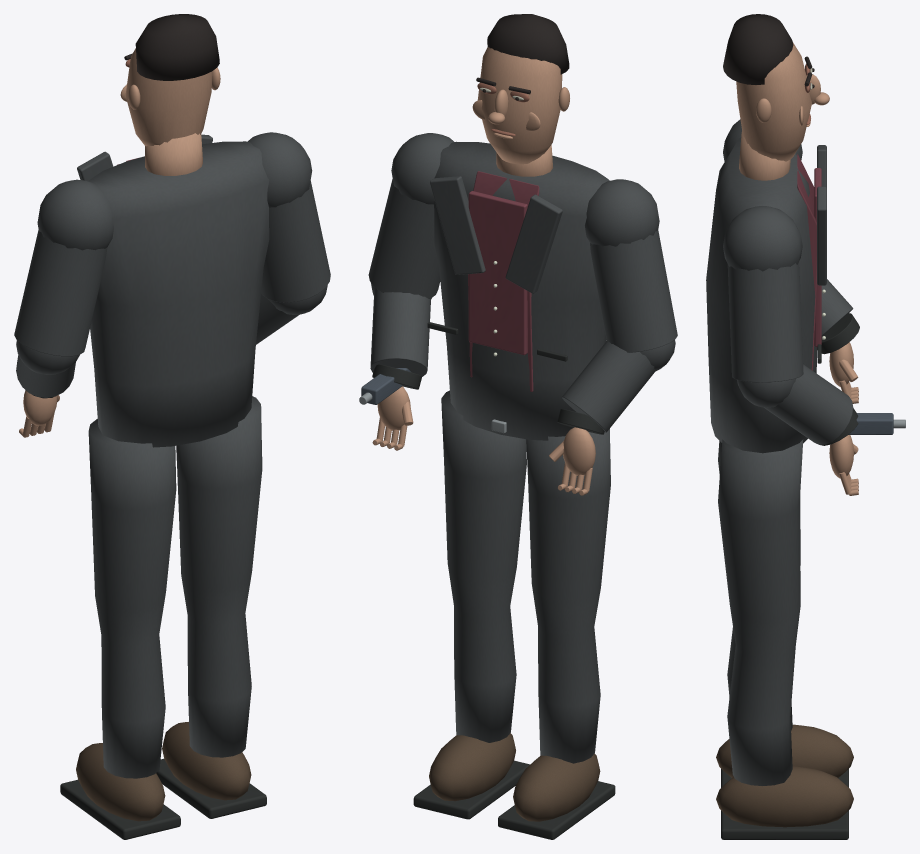
File: boss.glb
The picture shows the model from 3 angles, left to right: view 1: azimuth 30°, elevation 25°; view 2: azimuth 150°, elevation 25°; view 3: azimuth 270°, elevation 25°; orthographic projection. The views are drawn at different scales.
Parts seen in each view (by area): view 1: boss__TORSO, boss__LEG_L, boss__LEG_R, boss__ARM_L, boss__HEAD, boss__ARM_R, boss__FOREARM_L, boss__FOREARM_R, boss__BODY; view 2: boss__LEG_R, boss__LEG_L, boss__TORSO, boss__BODY, boss__HEAD, boss__ARM_L, boss__ARM_R, boss__FOREARM_L, boss__FOREARM_R; view 3: boss__LEG_R, boss__TORSO, boss__ARM_R, boss__HEAD, boss__FOREARM_R, boss__LEG_L, boss__FOREARM_L, boss__BODY, boss__ARM_L.
Part boxes in pixels (x1=…): boss__TORSO: x1=88, y1=141, x2=269, y2=447; boss__LEG_L: x1=60, y1=419, x2=180, y2=839; boss__LEG_R: x1=156, y1=396, x2=266, y2=818; boss__ARM_L: x1=14, y1=179, x2=113, y2=356; boss__HEAD: x1=120, y1=14, x2=220, y2=175; boss__ARM_R: x1=247, y1=132, x2=330, y2=302; boss__FOREARM_L: x1=16, y1=340, x2=79, y2=437; boss__FOREARM_R: x1=256, y1=285, x2=327, y2=344; boss__BODY: x1=77, y1=134, x2=212, y2=181; boss__LEG_R: x1=413, y1=390, x2=529, y2=819; boss__LEG_L: x1=498, y1=429, x2=615, y2=839; boss__TORSO: x1=434, y1=141, x2=609, y2=440; boss__BODY: x1=427, y1=176, x2=567, y2=433; boss__HEAD: x1=472, y1=14, x2=569, y2=176; boss__ARM_L: x1=585, y1=179, x2=677, y2=352; boss__ARM_R: x1=368, y1=133, x2=454, y2=298; boss__FOREARM_L: x1=549, y1=340, x2=675, y2=495; boss__FOREARM_R: x1=359, y1=283, x2=431, y2=450; boss__LEG_R: x1=716, y1=439, x2=853, y2=839; boss__TORSO: x1=706, y1=137, x2=825, y2=453; boss__ARM_R: x1=723, y1=206, x2=803, y2=382; boss__HEAD: x1=723, y1=14, x2=829, y2=180; boss__FOREARM_R: x1=737, y1=364, x2=905, y2=495; boss__LEG_L: x1=716, y1=441, x2=853, y2=787; boss__FOREARM_L: x1=817, y1=279, x2=859, y2=403; boss__BODY: x1=814, y1=145, x2=826, y2=363; boss__ARM_L: x1=723, y1=119, x2=802, y2=161.
Bounding box in the file's own units: 0.7111 × 1.76 × 0.405.
Materials: 1 (1 with a texture image).
